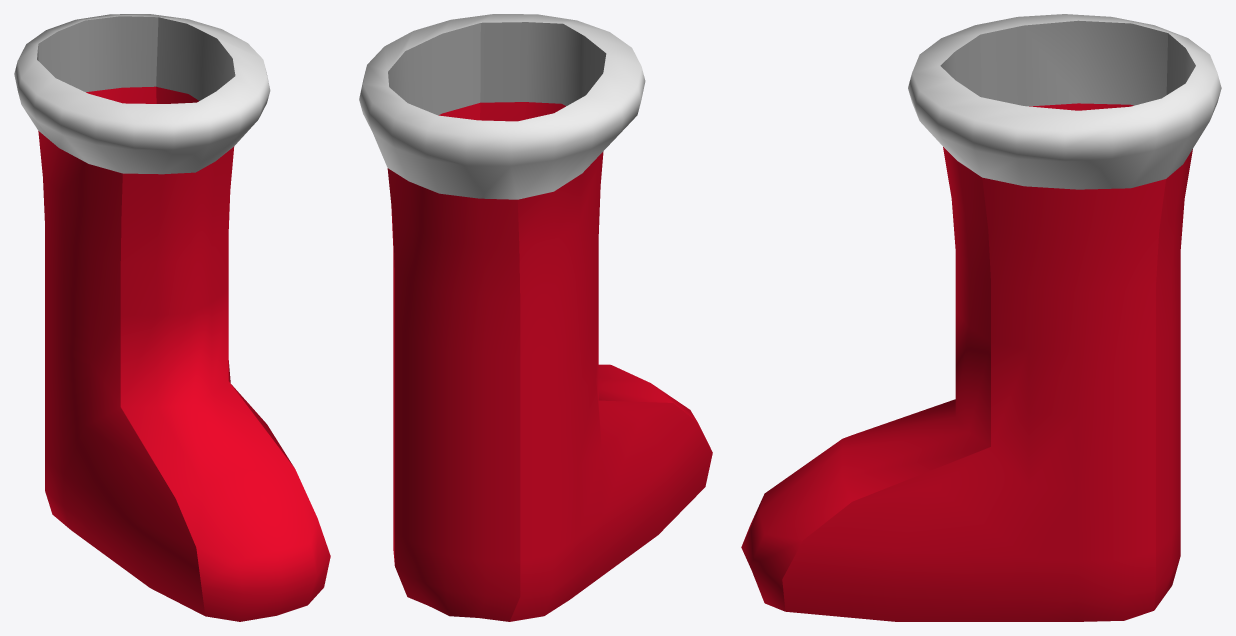
Rendered from プレゼント詰め合せ(靴下).fbx.
3 renders of one model, left to right at view 1: azimuth 30°, elevation 25°; view 2: azimuth 150°, elevation 25°; view 3: azimuth 270°, elevation 25°, orthographic. The views are drawn at different scales.
Parts seen in each view (by area): view 1: polySurface7; view 2: polySurface7; view 3: polySurface7.
Part boxes in pixels (x1=…): polySurface7: x1=14, y1=14, x2=330, y2=621; polySurface7: x1=359, y1=14, x2=712, y2=621; polySurface7: x1=741, y1=14, x2=1221, y2=621.
Bounding box in the file's own units: 2.62 × 5.32 × 4.4.
